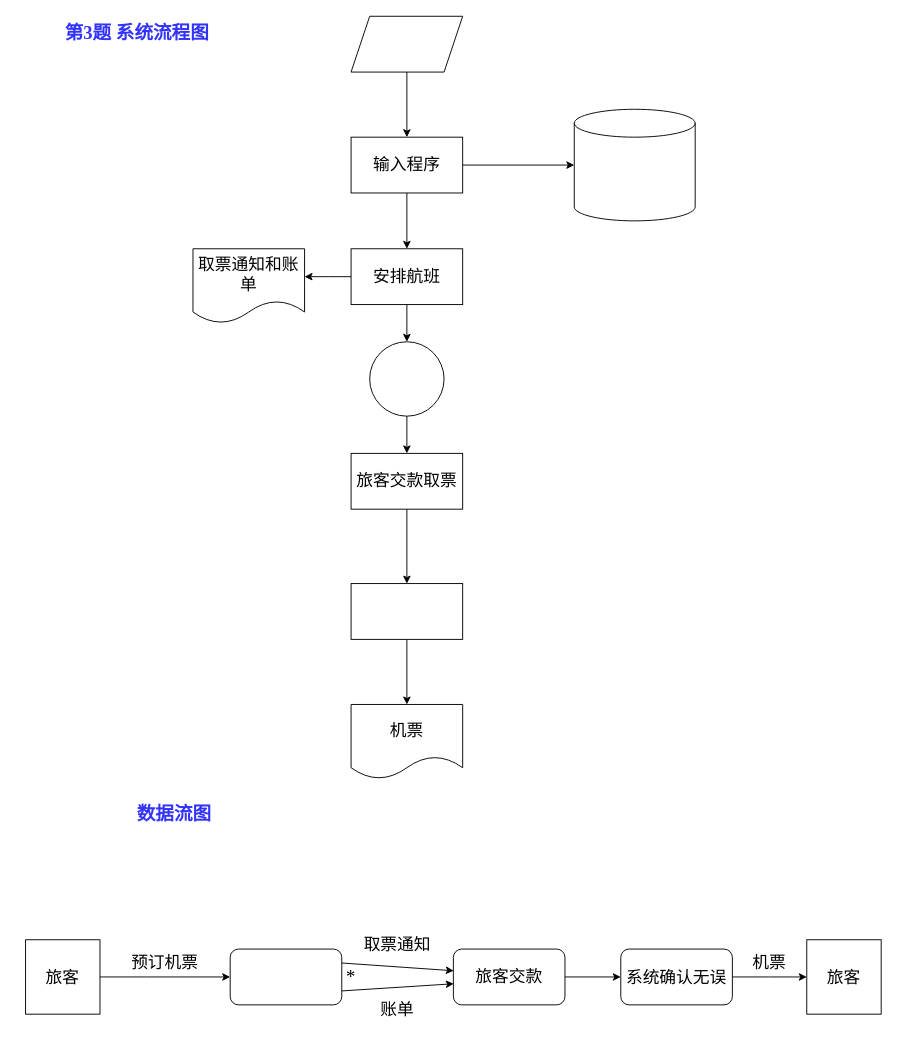
Image size: 897x1040. Some labels were removed from this diagram. The shapes that lost their labels are listed below. From the top down, each one's centre as x and y in pixels, then its label:
At point 406,43: "旅客信息".
At point 634,164: "存储旅客信息".
At point 406,378: "取票信息和账单".
At point 406,611: "系统校对".
At point 285,976: "系统处理旅客信息".
